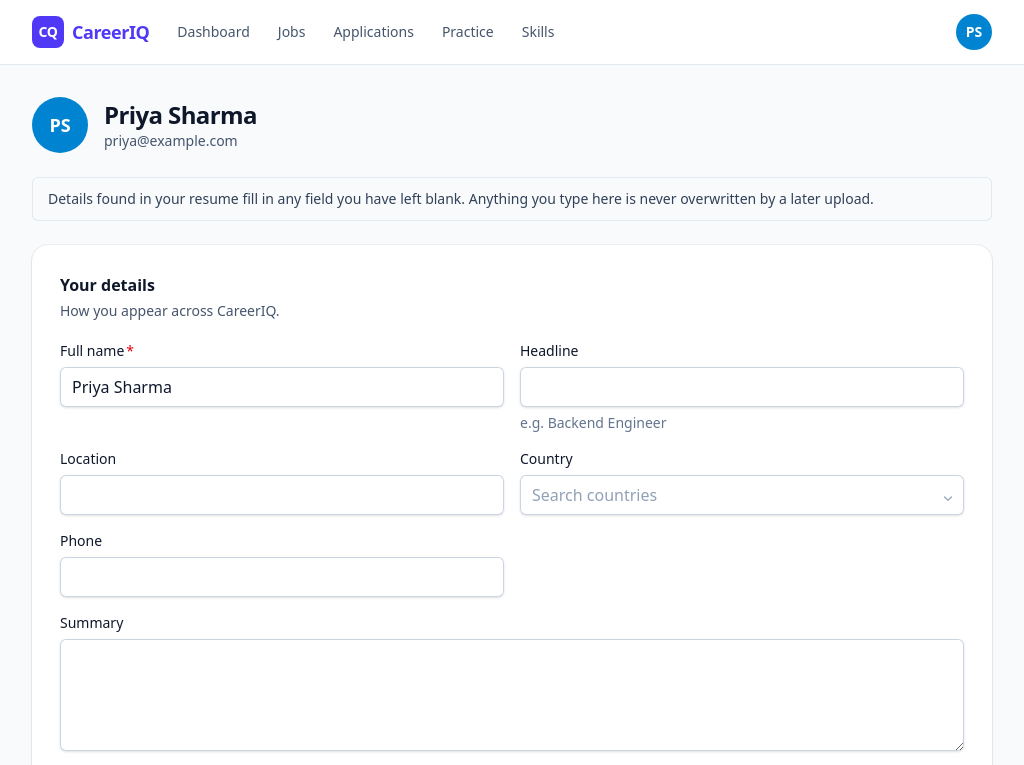
Test: ProfilePage › required fields › blocks the save when the name is empty
Step 1. Clear the field labelled "Full name*" → (282, 387), box [60,367,504,407]
(page scrolled)
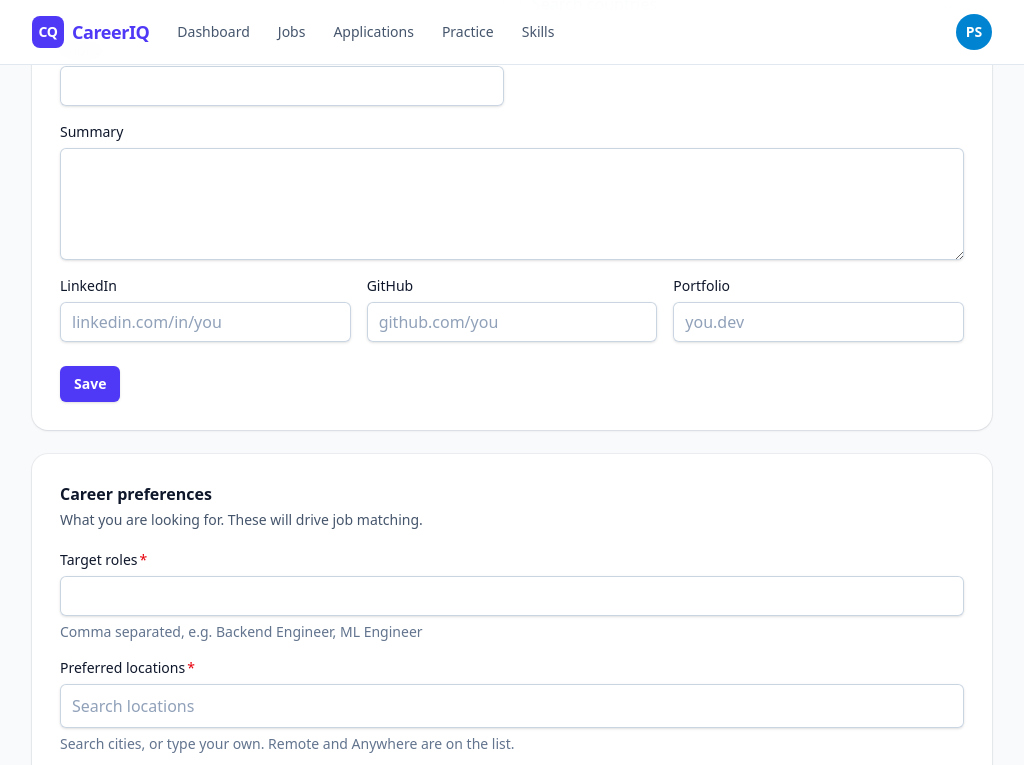
Step 2. Click the button "Save" → click(90, 384), box [60,366,120,402]
(page scrolled)
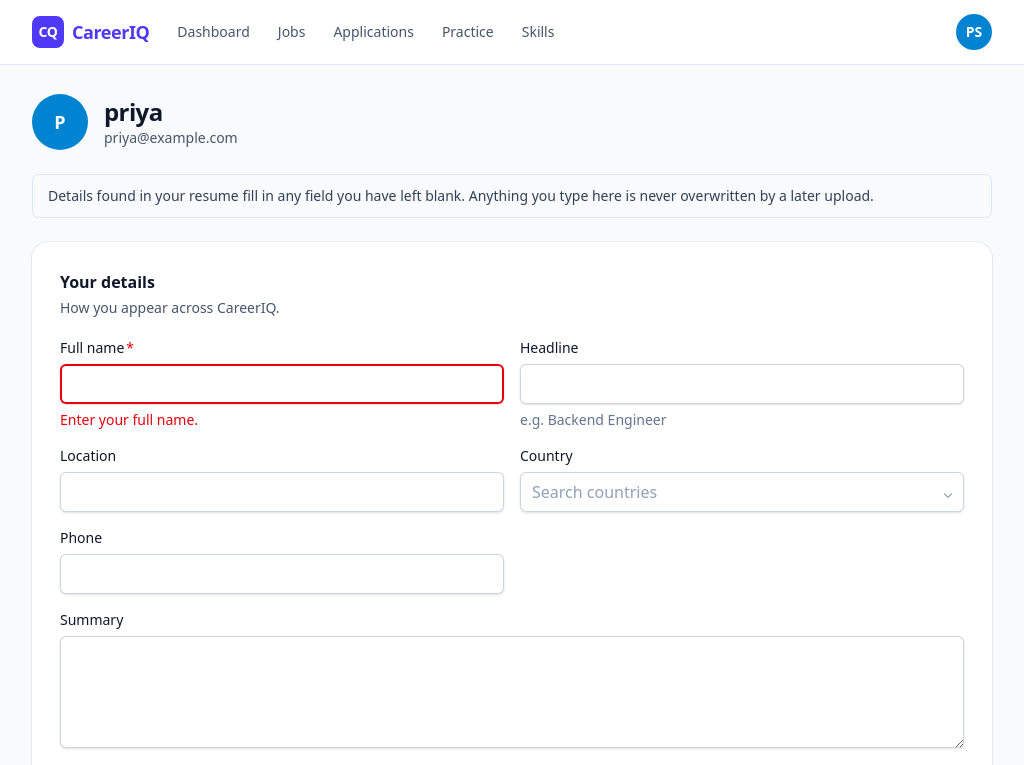
Check: the text "Enter your full name." is shown, box [60,410,198,429]
